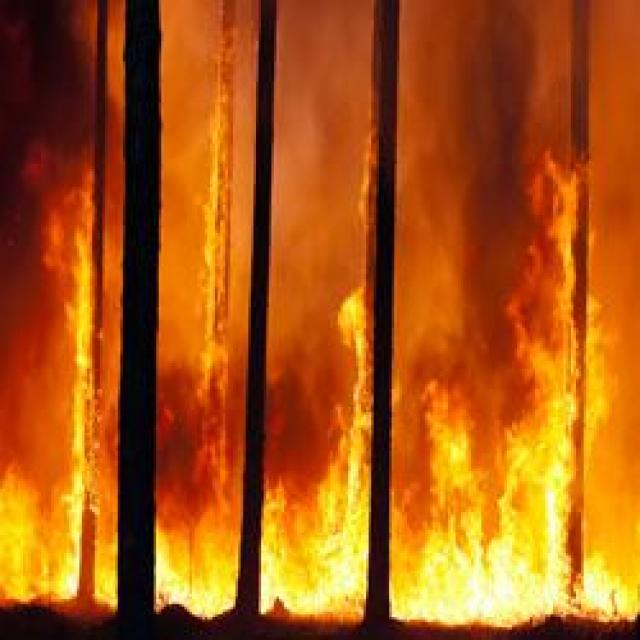fire: (394, 238, 568, 632), (525, 135, 625, 621), (265, 253, 368, 616), (41, 137, 118, 619), (198, 2, 240, 612), (3, 472, 68, 624)
